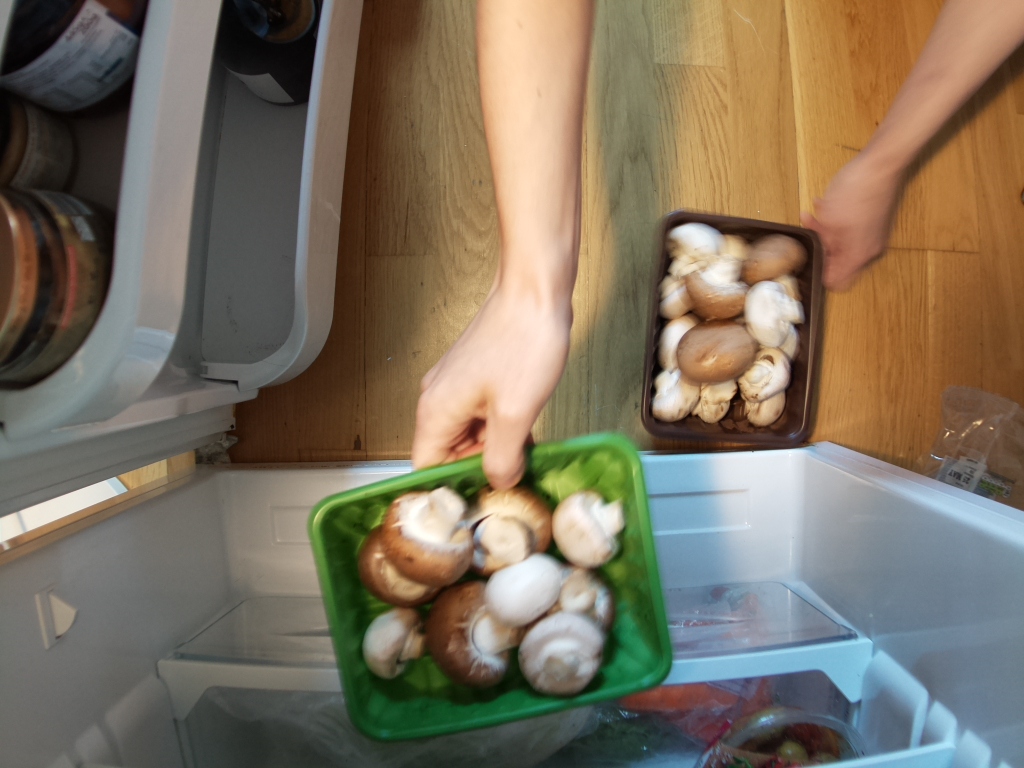mushrooms: (332, 444, 648, 707), (652, 216, 806, 444)
